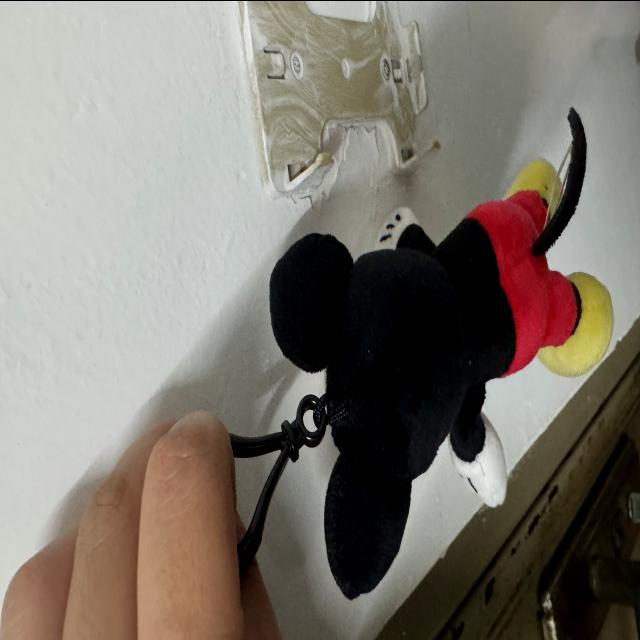mickey: (270, 110, 612, 597)
